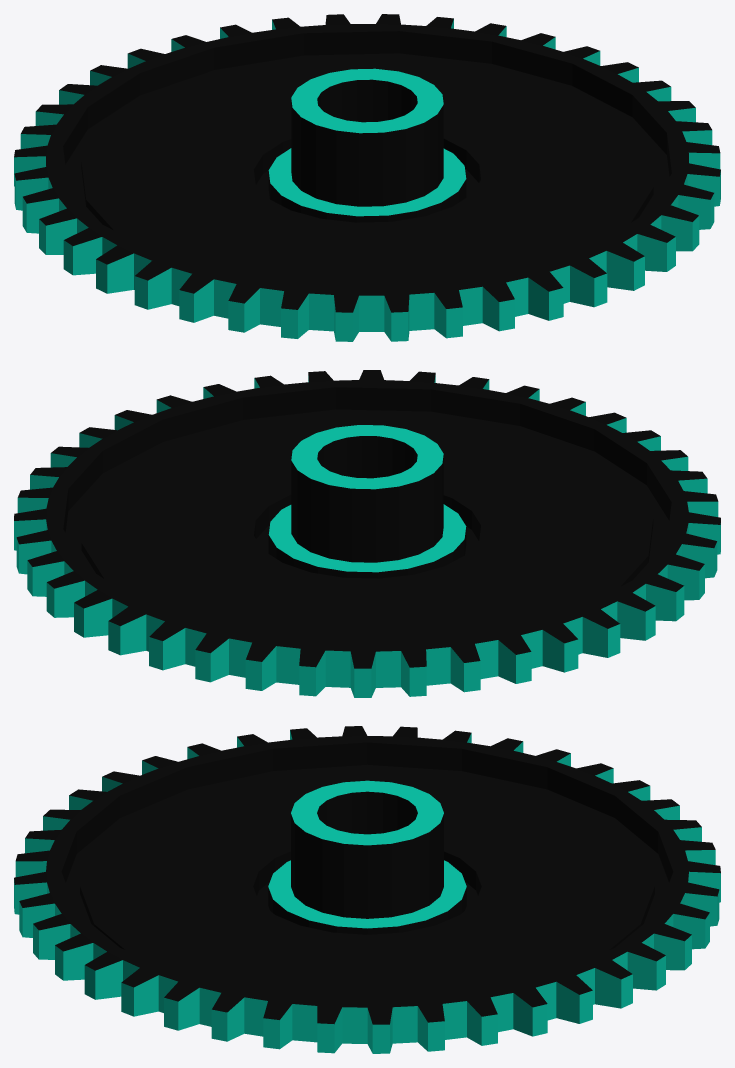
Rendered from D4GearV1.fbx.
The picture shows the model from 3 angles, top to bottom: view 1: azimuth 30°, elevation 25°; view 2: azimuth 150°, elevation 25°; view 3: azimuth 270°, elevation 25°; orthographic projection.
Visible parts, largest first — view 1: D4GearV1; view 2: D4GearV1; view 3: D4GearV1.
Part boxes in pixels (x1,y1,x2,y2): D4GearV1: (14, 14, 720, 341); D4GearV1: (14, 370, 720, 697); D4GearV1: (14, 726, 720, 1053).
Size of the model in its own units: 8.8 by 1.31 by 8.8.
